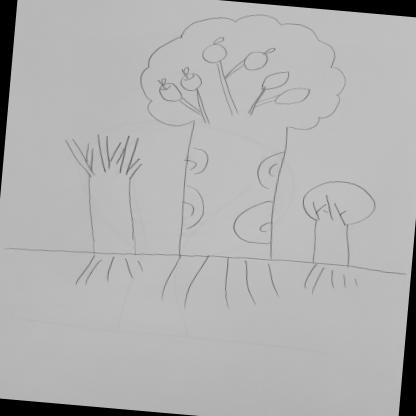apple: (196, 34, 232, 66), (242, 45, 278, 72), (276, 84, 312, 108), (154, 78, 186, 104), (174, 66, 204, 92), (264, 69, 290, 93)
branch_line: (181, 61, 280, 129), (59, 129, 151, 181), (306, 192, 354, 224)
crown_cloud: (137, 5, 352, 140)
crown_mushroom: (298, 178, 382, 228)
root_under: (162, 244, 287, 316), (72, 243, 150, 292), (296, 258, 370, 302)
trunk_straight: (170, 130, 291, 248), (77, 180, 146, 246), (307, 222, 355, 261)
